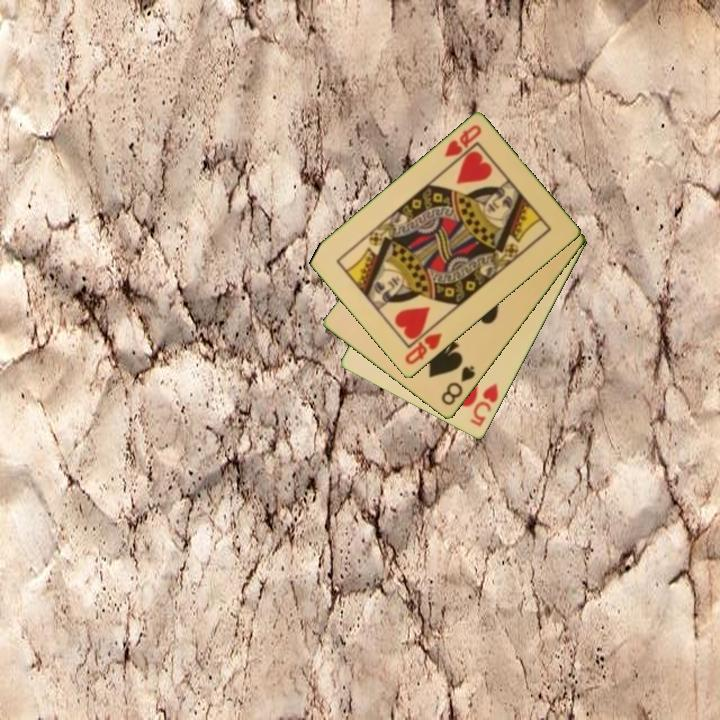5h: (467, 380, 502, 430)
8s: (438, 362, 478, 409)
Qh: (441, 121, 485, 161), (401, 329, 445, 368)
